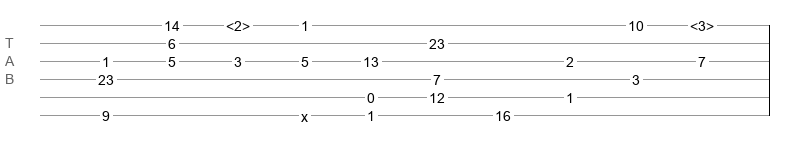0: (367, 90, 375, 100)
1: (102, 54, 110, 64), (301, 18, 309, 28), (367, 108, 375, 118), (566, 90, 574, 100)
10: (628, 18, 644, 28)
12: (429, 90, 445, 100)
13: (363, 54, 379, 64)
14: (164, 18, 180, 28)
16: (495, 108, 511, 118)
2: (566, 54, 574, 64)
23: (98, 72, 114, 82), (429, 36, 445, 46)
3: (234, 54, 242, 64), (632, 72, 640, 82)
5: (168, 54, 176, 64), (301, 54, 309, 64)
6: (168, 36, 176, 46)
7: (433, 72, 441, 82), (698, 54, 706, 64)
9: (102, 108, 110, 118)
harmonic: (226, 18, 250, 28), (690, 18, 714, 28)
x: (301, 109, 308, 117)
